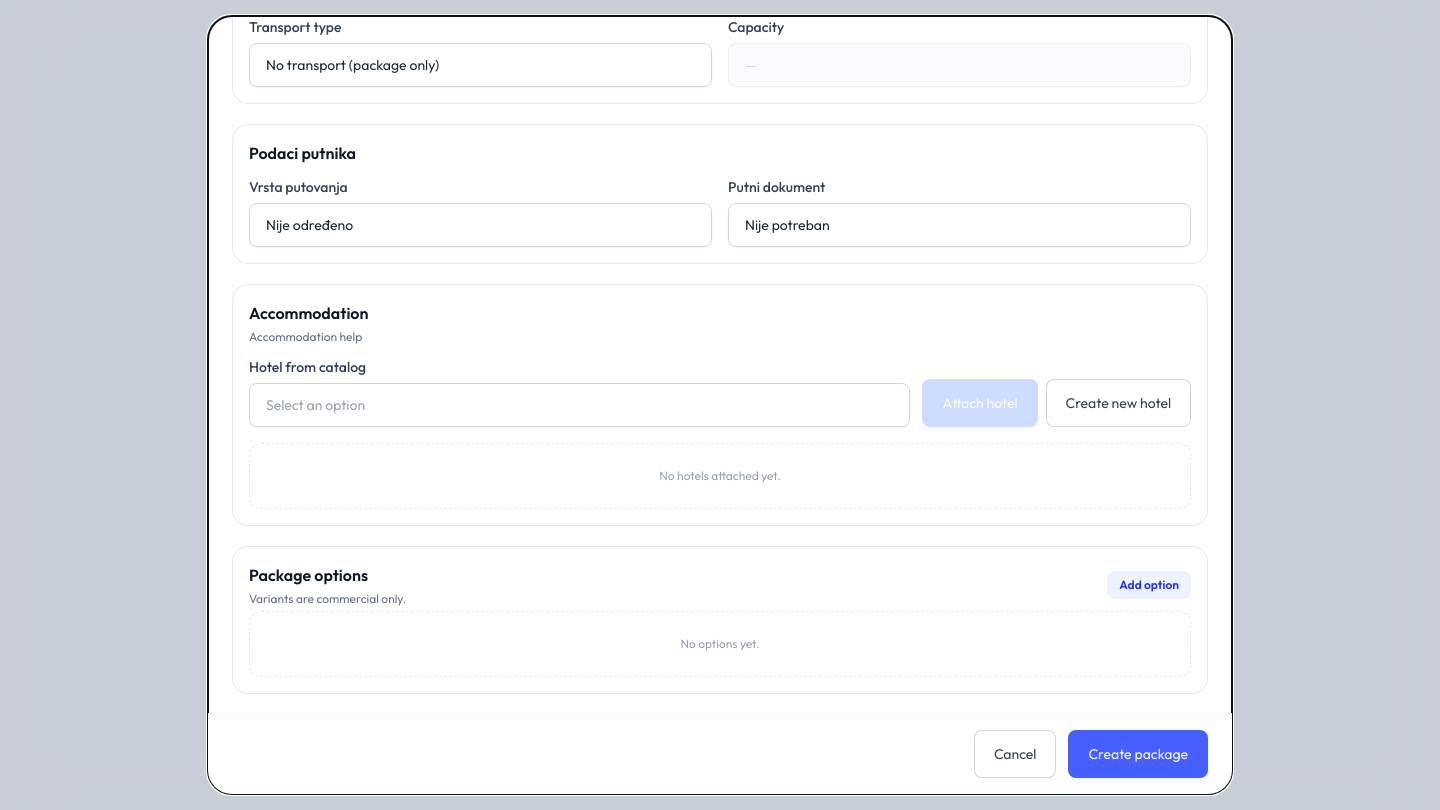
Test: PackageEditorModal › loads the hotel catalog in create mode and allows adding a hotel before the package exists
(page scrolled)
Select "Hotel Medine — Medina" in the dropdown named "Select an existing hotel" below "Hotel from catalog": [580, 405] box x1=249 y1=383 x2=910 y2=427
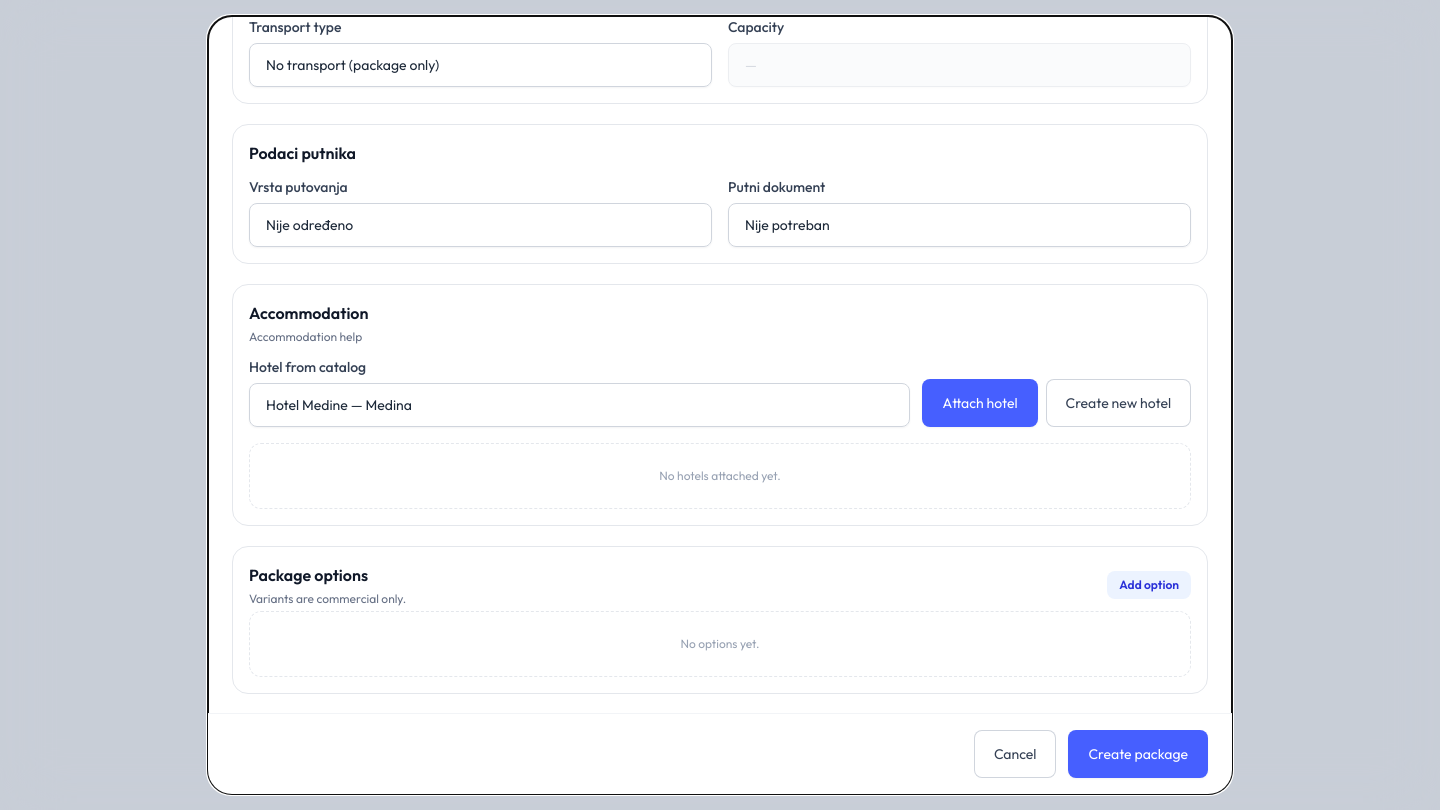
Click the button "Attach hotel": [980, 403] box x1=922 y1=379 x2=1038 y2=427
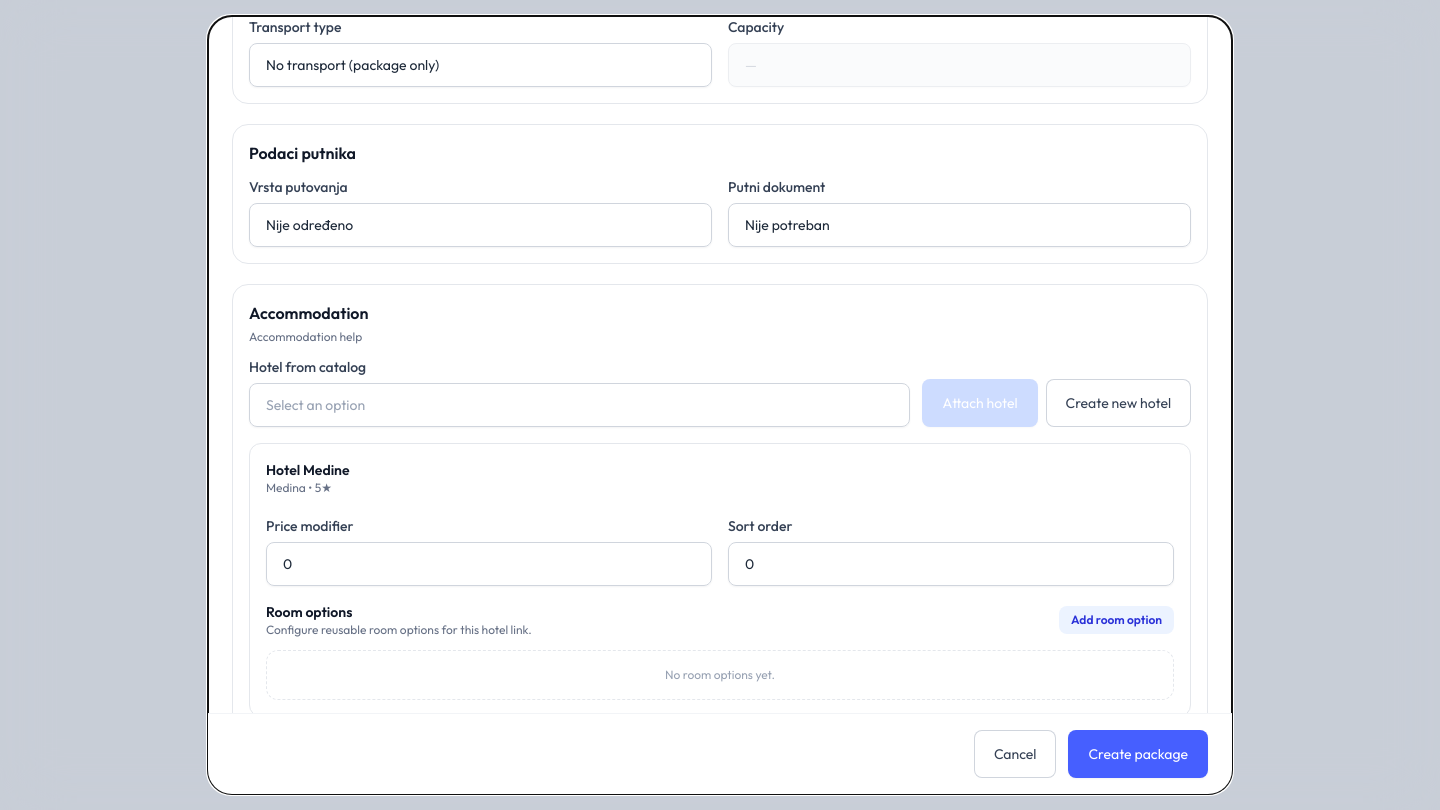
Check: the heading "Hotel Medine" is shown, box x1=266 y1=460 x2=350 y2=480
